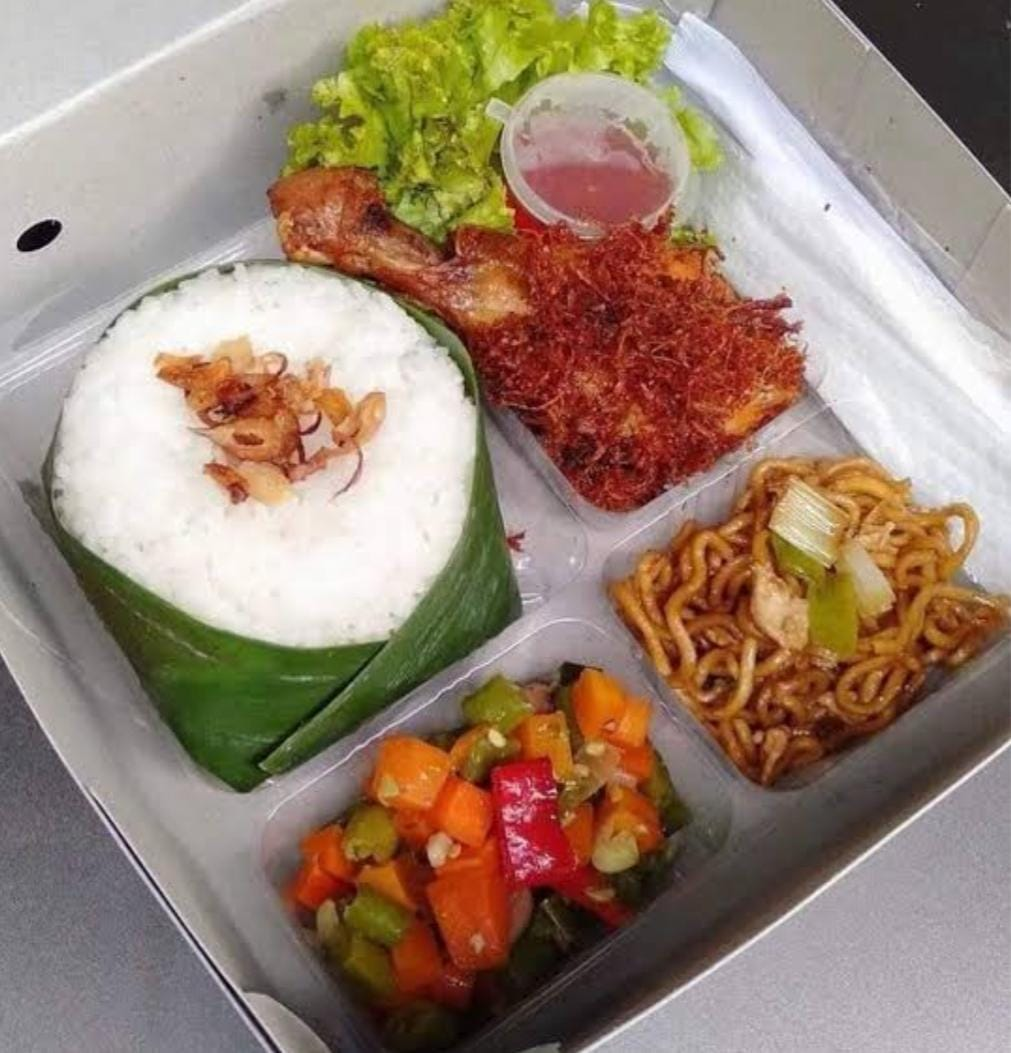buah_sayur_lainnya: (357, 48, 507, 160)
buah_sayur_vitA: (320, 776, 651, 956)
daging: (480, 228, 791, 378)
makanan_berpati: (113, 334, 433, 547), (690, 534, 929, 690)
